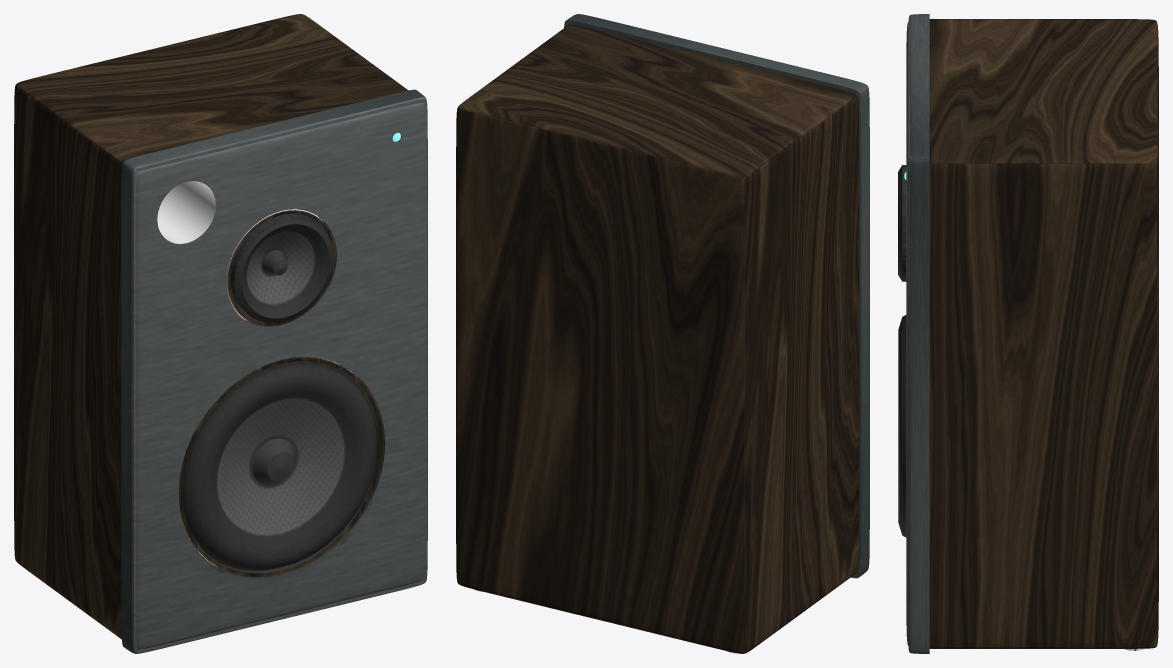
File: speaker.glb
3 views of the same model, side by side, from view 1: azimuth 30°, elevation 25°; view 2: azimuth 150°, elevation 25°; view 3: azimuth 270°, elevation 25° (orthographic).
Visible parts, largest first — view 1: Object_2; view 2: Object_2; view 3: Object_2.
Boxes of the visible parts, x1,y1,x2,y2 form: Object_2: [14, 14, 427, 653]; Object_2: [456, 14, 869, 653]; Object_2: [898, 14, 1158, 653].
Bounding box in the file's own units: 1.1 × 1.73 × 0.8198.
Materials: 1 (1 with a texture image).
